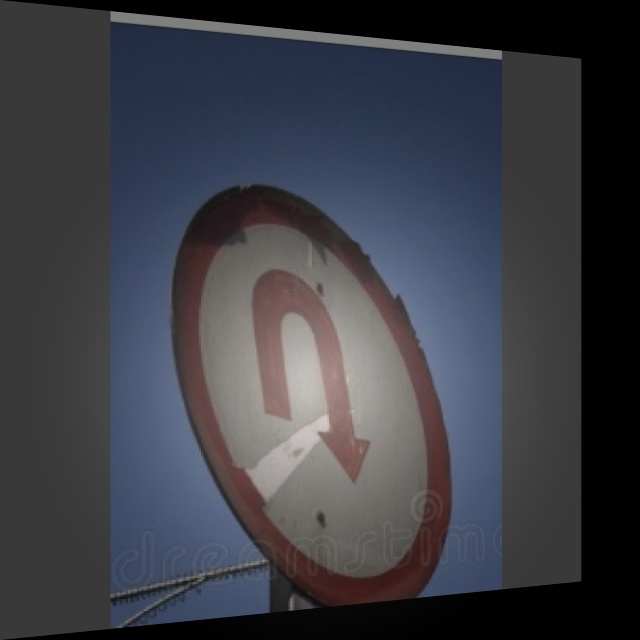U_Turn_Ahead: (178, 176, 457, 580)
